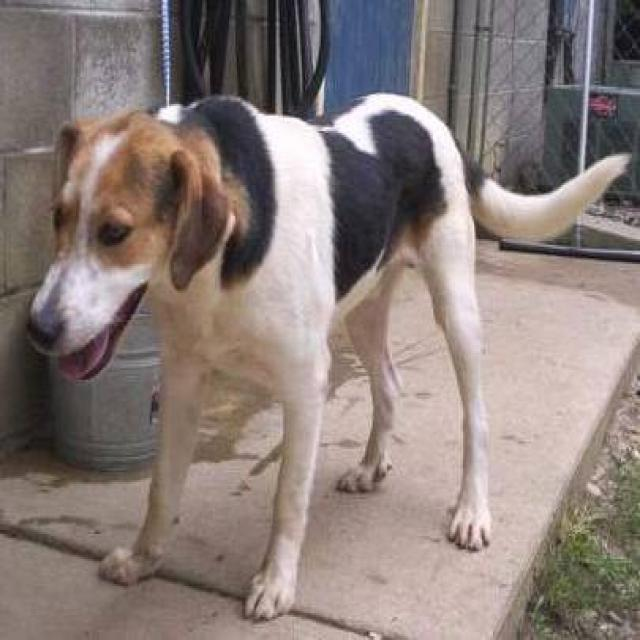Dog: (23, 79, 245, 383)
